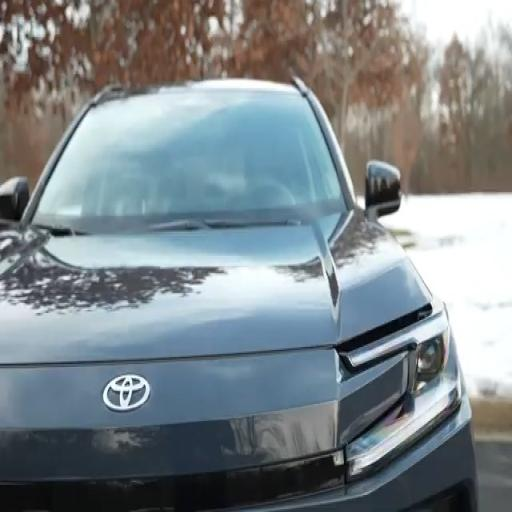bumper: (252, 396, 477, 511)
emblem: (104, 375, 150, 411)
fog_light: (347, 311, 461, 480)
grille: (0, 453, 344, 511)
headlight: (345, 302, 461, 479)
hood: (0, 211, 431, 364)
side_mirror: (365, 161, 401, 219), (0, 177, 29, 221)
windshield: (32, 90, 343, 226)
